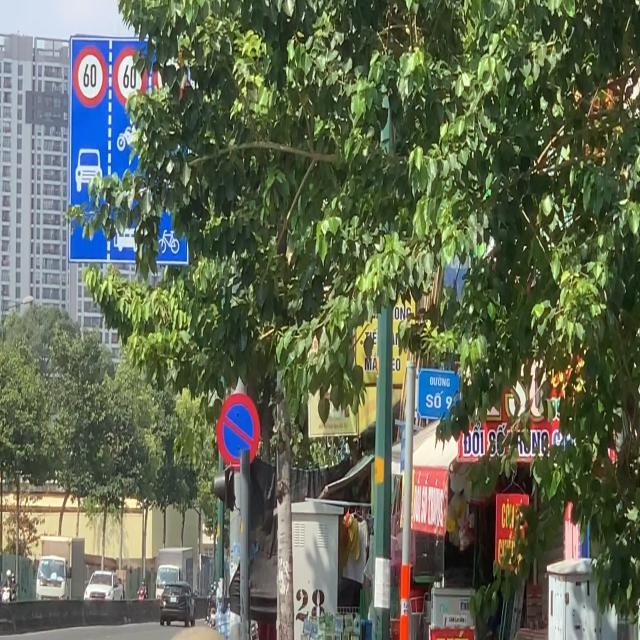Cam do: (216, 378, 264, 476)
Toc do toi da: (72, 42, 111, 120), (113, 43, 145, 119)
